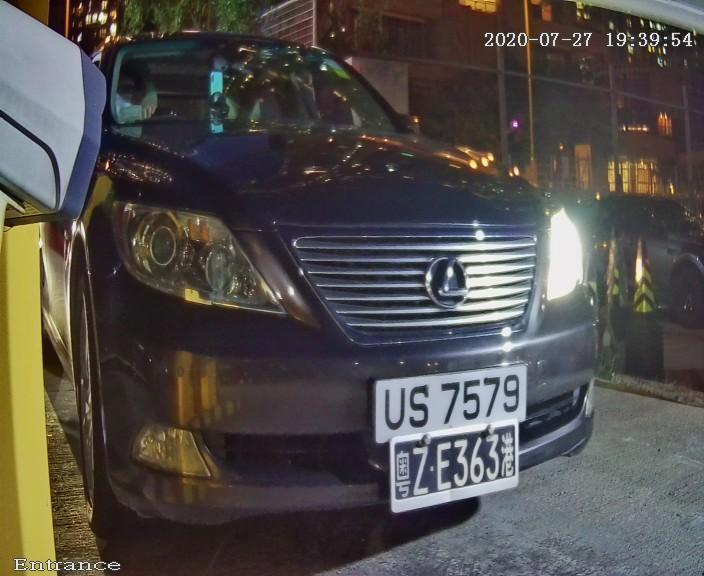privatecar: (48, 19, 635, 538)
